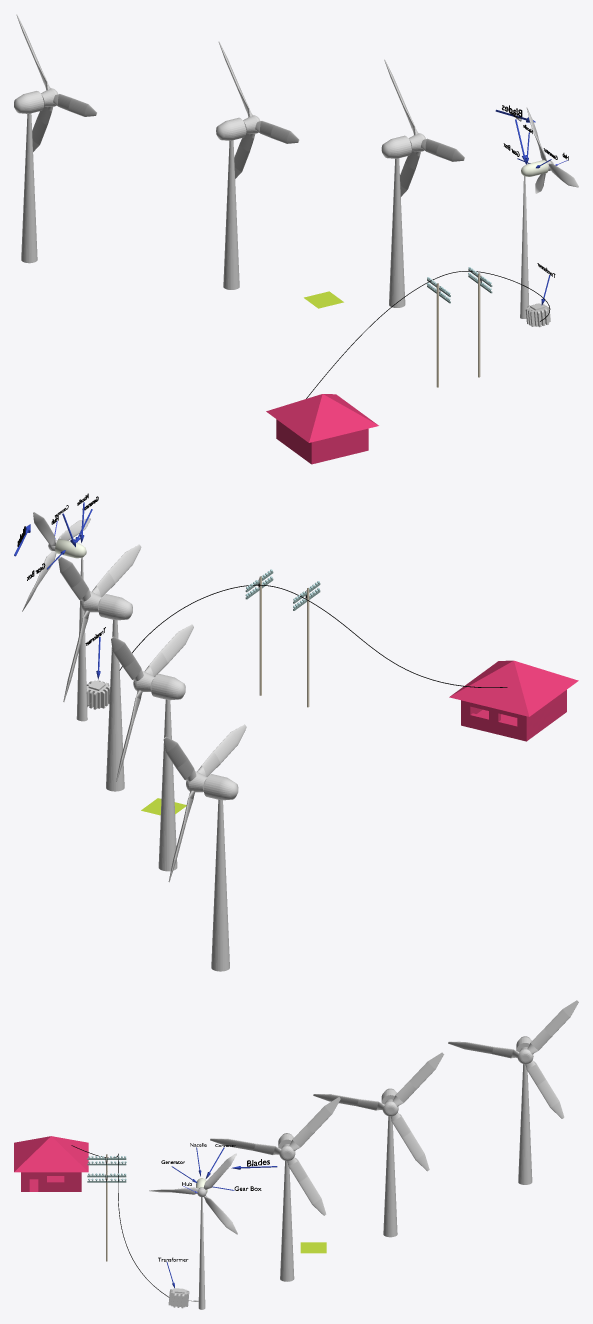
Rendered from Wind Energy.blend.gltf.
The picture shows the model from 3 angles, top to bottom: view 1: azimuth 30°, elevation 25°; view 2: azimuth 150°, elevation 25°; view 3: azimuth 270°, elevation 25°; orthographic projection. The views are drawn at different scales.
Parts seen in each view (by area): view 1: Cube, Cylinder.006, Cylinder.003, Cylinder, Cylinder.005, Cylinder.002, Cylinder.008, Cylinder.013, Cylinder.009; view 2: Cube, Cylinder.002, Cylinder.008, Cylinder.005, Cylinder.006, Cylinder, Cylinder.003, Cylinder.009, Cylinder.013, Cylinder.001, Cylinder.004, Cylinder.007 (+1 smaller); view 3: Cube, Cylinder.008, Cylinder.002, Cylinder.005, Cylinder.003, Cylinder.006, Cylinder, Cylinder.009, Cylinder.013.
Part boxes in pixels (<box>): Cube: <box>266,394,378,464</box>; Cylinder.006: <box>21,113,37,263</box>; Cylinder.003: <box>223,140,239,289</box>; Cylinder: <box>389,158,405,307</box>; Cylinder.005: <box>218,41,299,178</box>; Cylinder.002: <box>384,59,464,196</box>; Cylinder.008: <box>16,14,96,151</box>; Cylinder.013: <box>520,176,529,318</box>; Cylinder.009: <box>526,107,578,193</box>; Cube: <box>449,660,578,741</box>; Cylinder.002: <box>58,544,141,701</box>; Cylinder.008: <box>163,724,246,882</box>; Cylinder.005: <box>111,624,193,781</box>; Cylinder.006: <box>211,799,229,971</box>; Cylinder: <box>106,620,124,791</box>; Cylinder.003: <box>158,699,177,871</box>; Cylinder.009: <box>22,512,90,611</box>; Cylinder.013: <box>76,557,87,721</box>; Cylinder.001: <box>98,594,132,620</box>; Cylinder.004: <box>151,673,185,700</box>; Cylinder.007: <box>204,774,238,800</box>; Cube: <box>14,1136,88,1191</box>; Cylinder.008: <box>448,1000,578,1118</box>; Cylinder.002: <box>210,1097,340,1215</box>; Cylinder.005: <box>313,1052,443,1171</box>; Cylinder.003: <box>383,1116,397,1237</box>; Cylinder.006: <box>518,1064,532,1184</box>; Cylinder: <box>280,1161,294,1281</box>; Cylinder.009: <box>149,1153,237,1234</box>; Cylinder.013: <box>198,1197,205,1309</box>.
Size of the model in its own units: 2.73 by 1.6 by 4.32.
